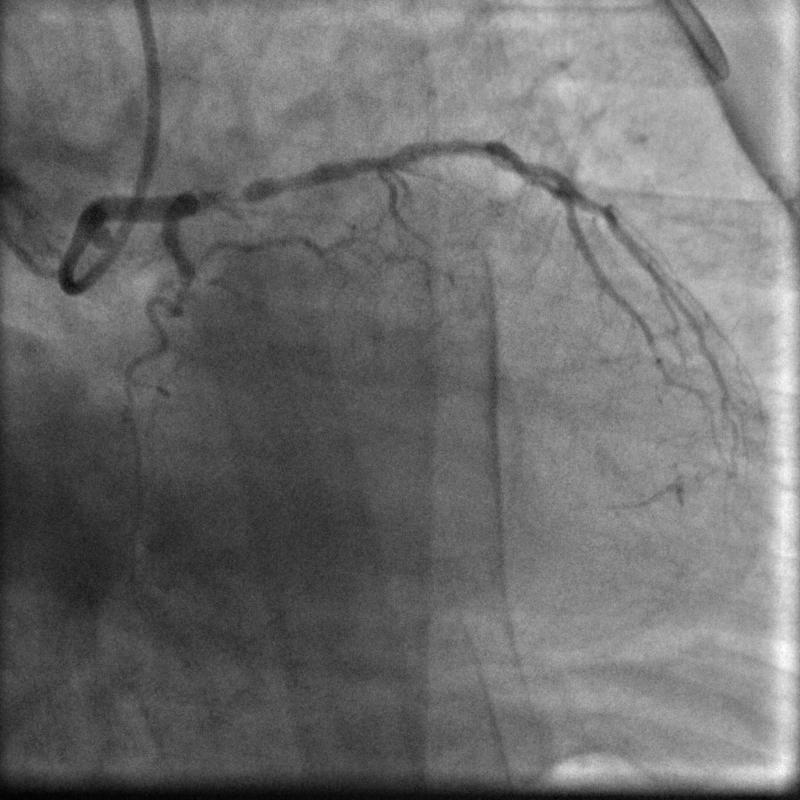Stenosis: (199, 181, 262, 209)
